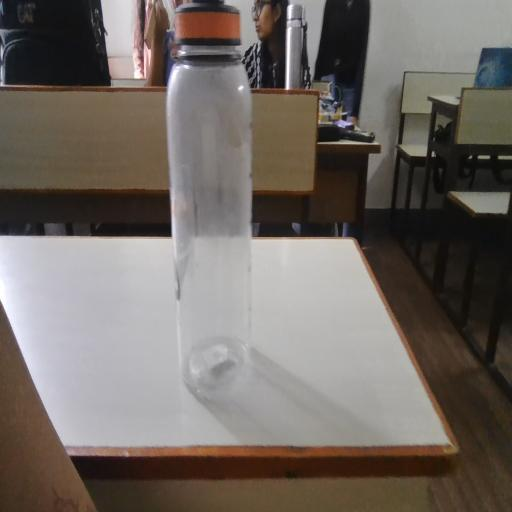Bottle: (166, 11, 262, 392)
